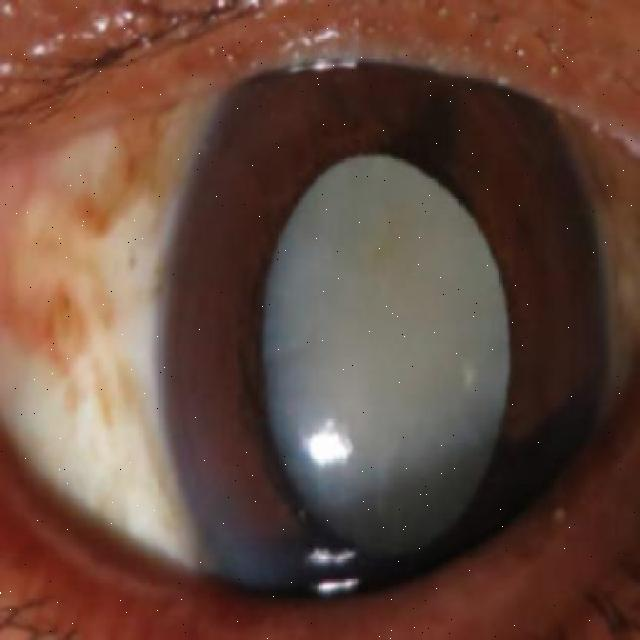Cataract: (164, 23, 613, 640)
